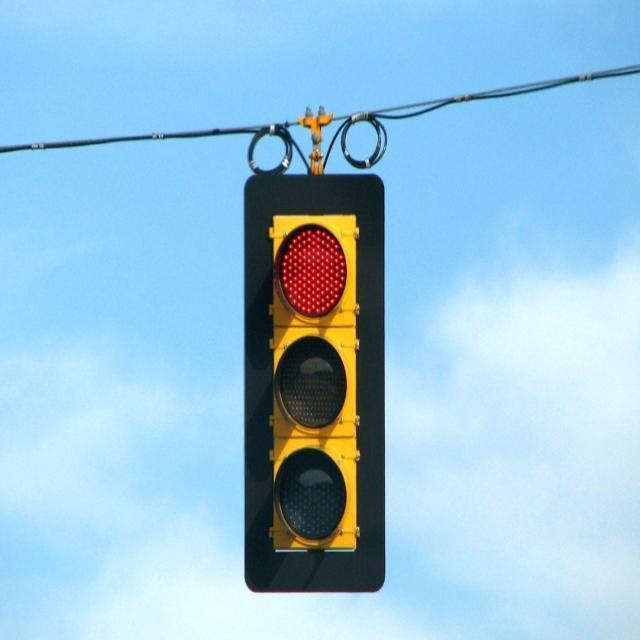red_light: (244, 166, 384, 591)
